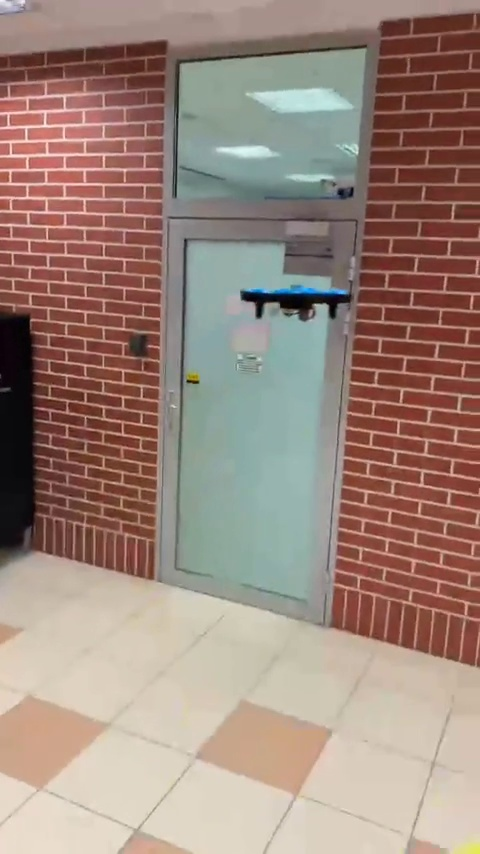drone: (239, 288, 352, 319)
